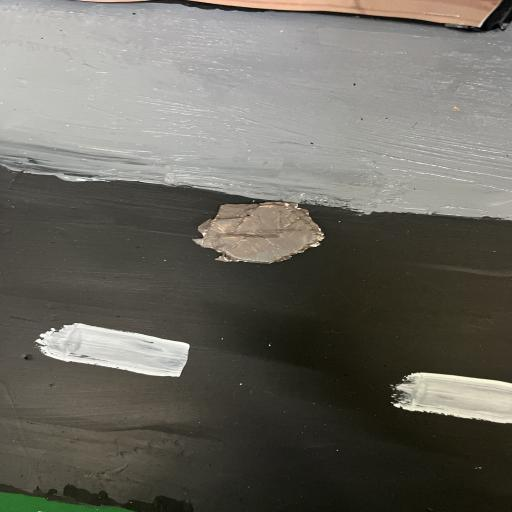porthole: (191, 195, 330, 265)
